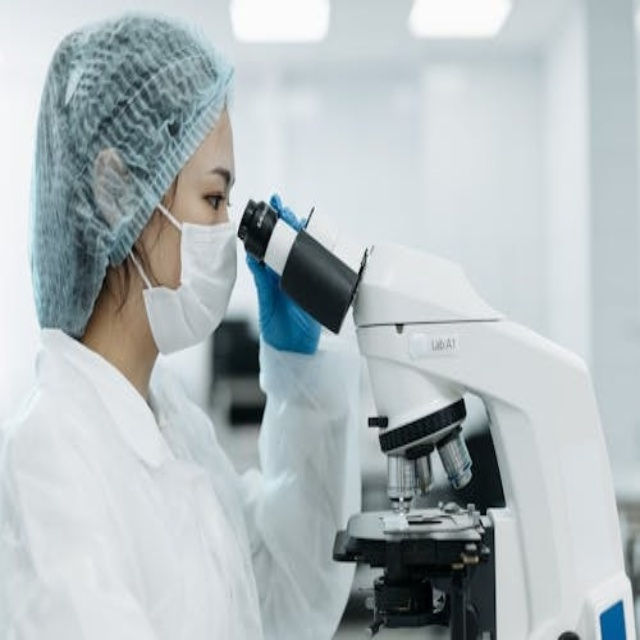Guantes: (246, 203, 325, 357)
Mascara: (132, 187, 238, 357)
Sin_gafas: (179, 165, 241, 217)
